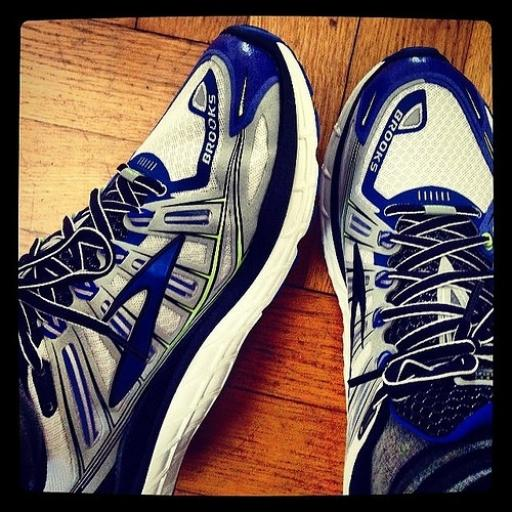shoe: (18, 26, 318, 494), (320, 47, 494, 494)
